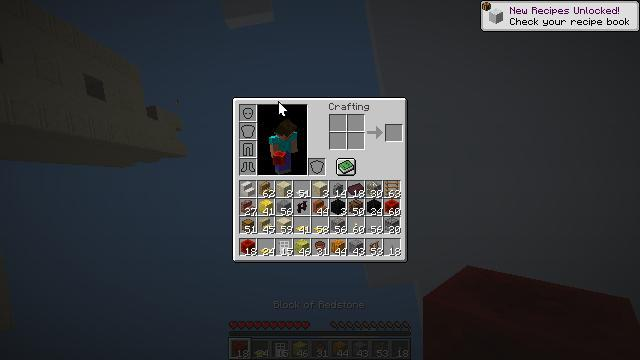cursor: (101, 278, 117, 288)
